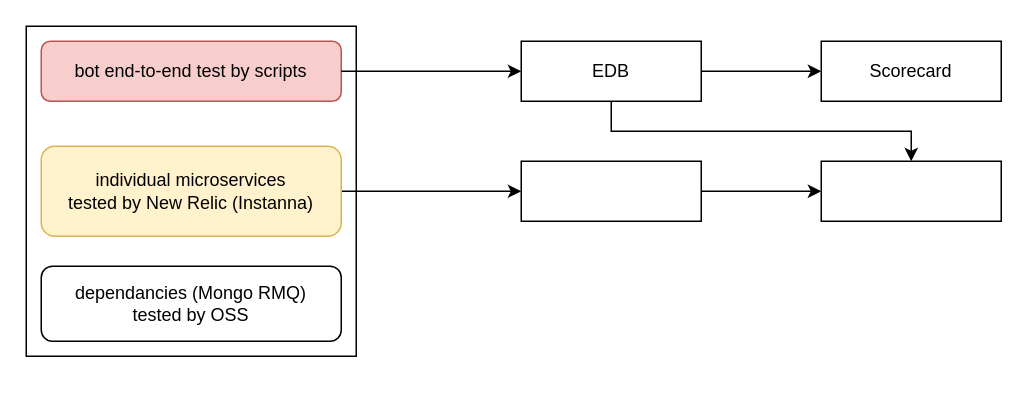
The diagram is 1028 pixels wide and 395 high, and some of its shapes have lost their labels. Each missing label, with the centre of its shape:
Pager Duty: the point at 910,190
Service Now: the point at 610,190
